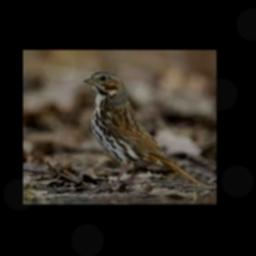Sparrow: (83, 71, 201, 185)
